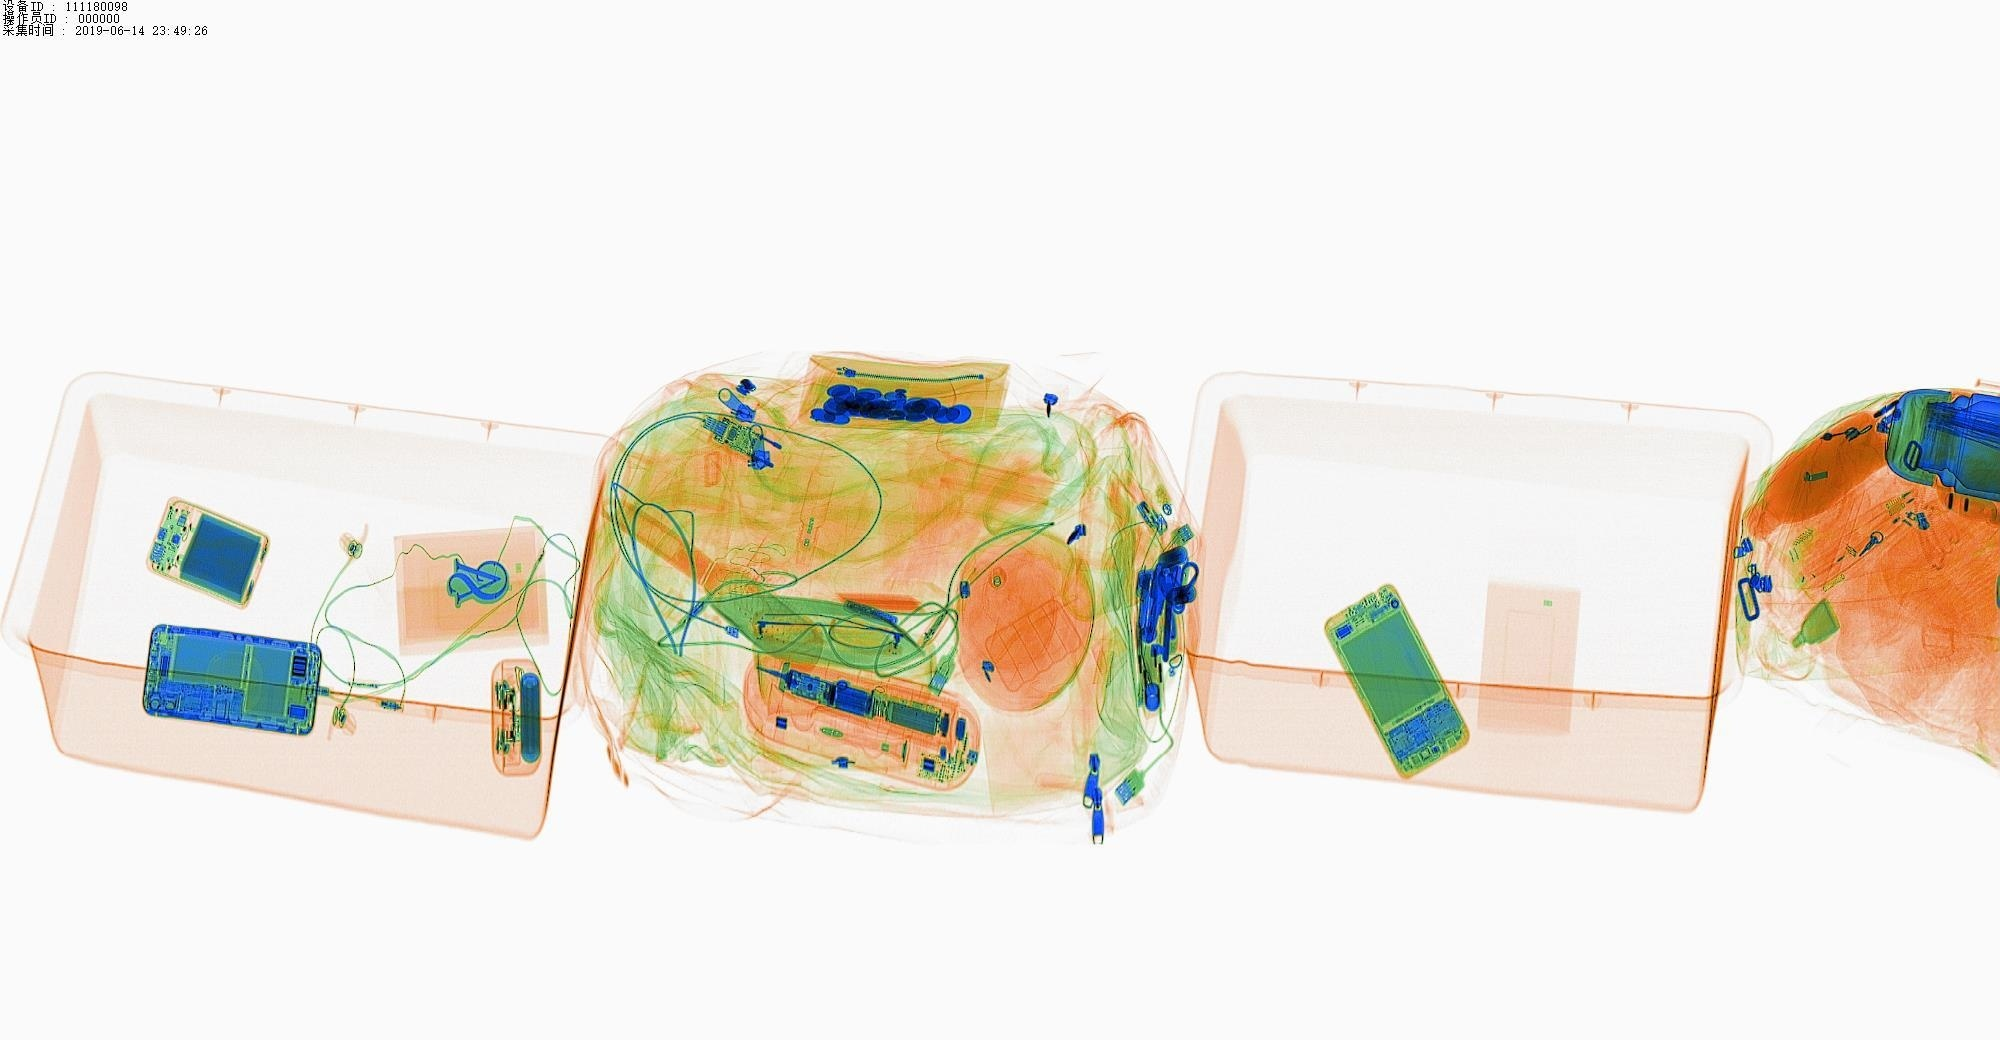NonmetallicFire: (1111, 459, 1183, 545)
